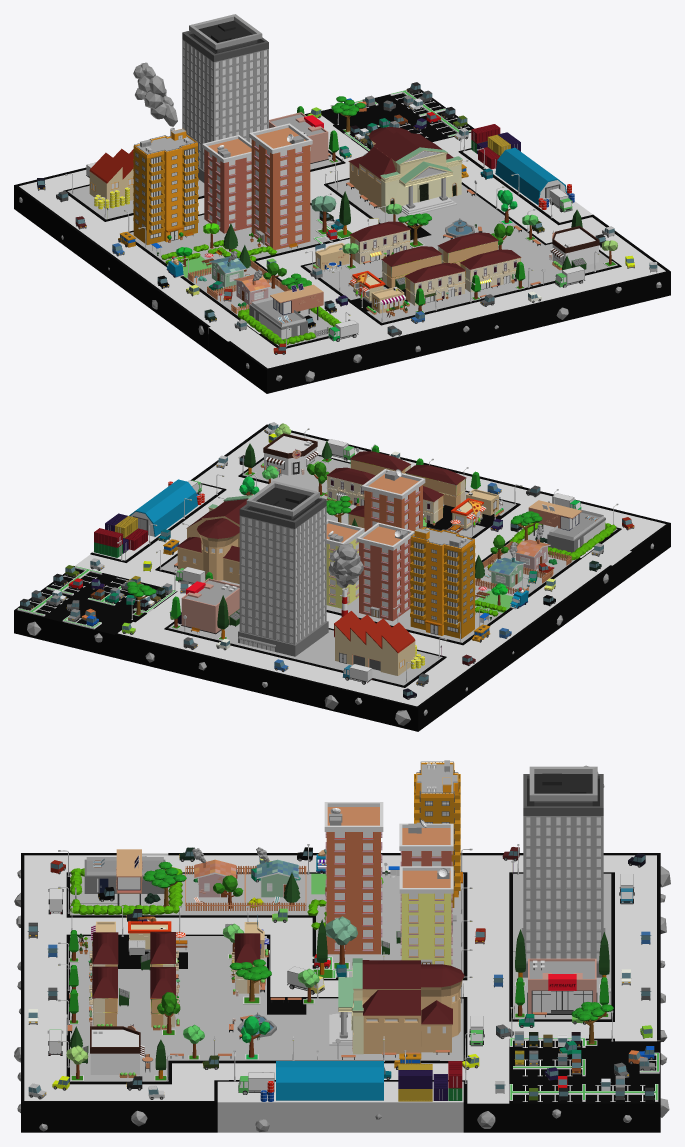
File: LowPolyCity.fbx
3 renders of one model, top to bottom at view 1: azimuth 30°, elevation 25°; view 2: azimuth 150°, elevation 25°; view 3: azimuth 270°, elevation 25°, orthographic. The views are drawn at different scales.
Parts seen in each view (by area): view 1: Ufficio, Struttura, Condominio.001, Floor.001, Condominio.002, Cube, Villa, Storage, Plane.012, Factory, Plane.089, Icosphere.002 (+47 smaller); view 2: Ufficio, Floor.001, Factory, Condominio.002, Plane.069, Cube, Villa, SuperMarket, Storage, Condominio.001, Retro, Plane.047 (+50 smaller); view 3: Ufficio, Struttura, Condominio.001, Plane.069, Storage, Cube, SuperMarket, Condominio, Plane.089, Villa, Plane.072, Plane.080 (+105 smaller).
Part boxes in pixels (bbox=[...]): Ufficio: bbox=[182, 39, 268, 170]; Struttura: bbox=[358, 132, 462, 212]; Condominio.001: bbox=[251, 139, 310, 249]; Floor.001: bbox=[133, 146, 198, 233]; Condominio.002: bbox=[204, 149, 251, 233]; Cube: bbox=[182, 14, 268, 61]; Villa: bbox=[249, 284, 323, 339]; Storage: bbox=[495, 147, 566, 205]; Plane.012: bbox=[247, 350, 300, 393]; Factory: bbox=[89, 148, 133, 205]; Plane.089: bbox=[328, 179, 490, 225]; Icosphere.002: bbox=[133, 62, 177, 126]; Ufficio: bbox=[239, 506, 326, 644]; Floor.001: bbox=[410, 540, 475, 627]; Factory: bbox=[334, 611, 415, 675]; Condominio.002: bbox=[359, 538, 410, 621]; Plane.069: bbox=[14, 610, 166, 665]; Cube: bbox=[239, 481, 326, 528]; Villa: bbox=[528, 500, 605, 552]; SuperMarket: bbox=[181, 578, 239, 634]; Storage: bbox=[129, 479, 197, 536]; Condominio.001: bbox=[364, 485, 422, 531]; Retro: bbox=[197, 518, 239, 580]; Plane.047: bbox=[350, 678, 406, 724]; Ufficio: bbox=[523, 816, 603, 962]; Struttura: bbox=[338, 958, 421, 1054]; Condominio.001: bbox=[325, 832, 382, 954]; Plane.069: bbox=[513, 1019, 660, 1132]; Storage: bbox=[276, 1061, 383, 1100]; Cube: bbox=[523, 766, 603, 815]; SuperMarket: bbox=[527, 958, 597, 1014]; Condominio: bbox=[400, 893, 452, 965]; Plane.089: bbox=[306, 998, 463, 1060]; Villa: bbox=[84, 849, 165, 905]; Plane.072: bbox=[66, 1081, 119, 1132]; Plane.080: bbox=[172, 1081, 217, 1132].
Size of the model in its own units: 12247 by 4688 by 13351.
5 materials, 2 textured.
